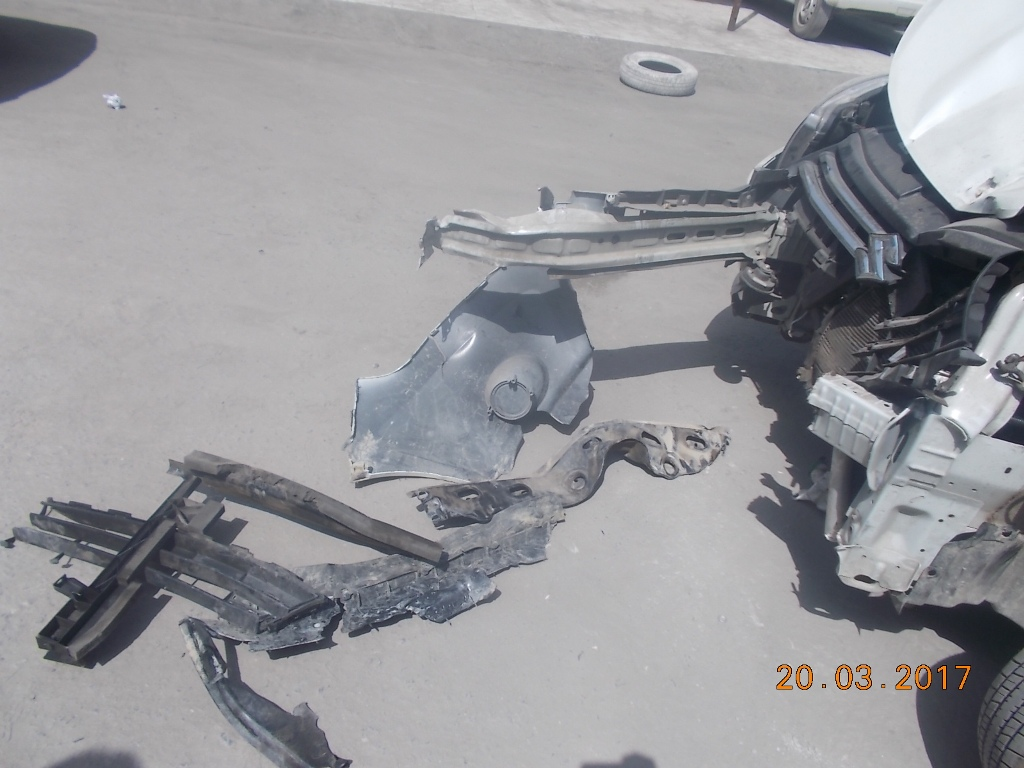Large_tear_or_damage: (732, 38, 1008, 623)
